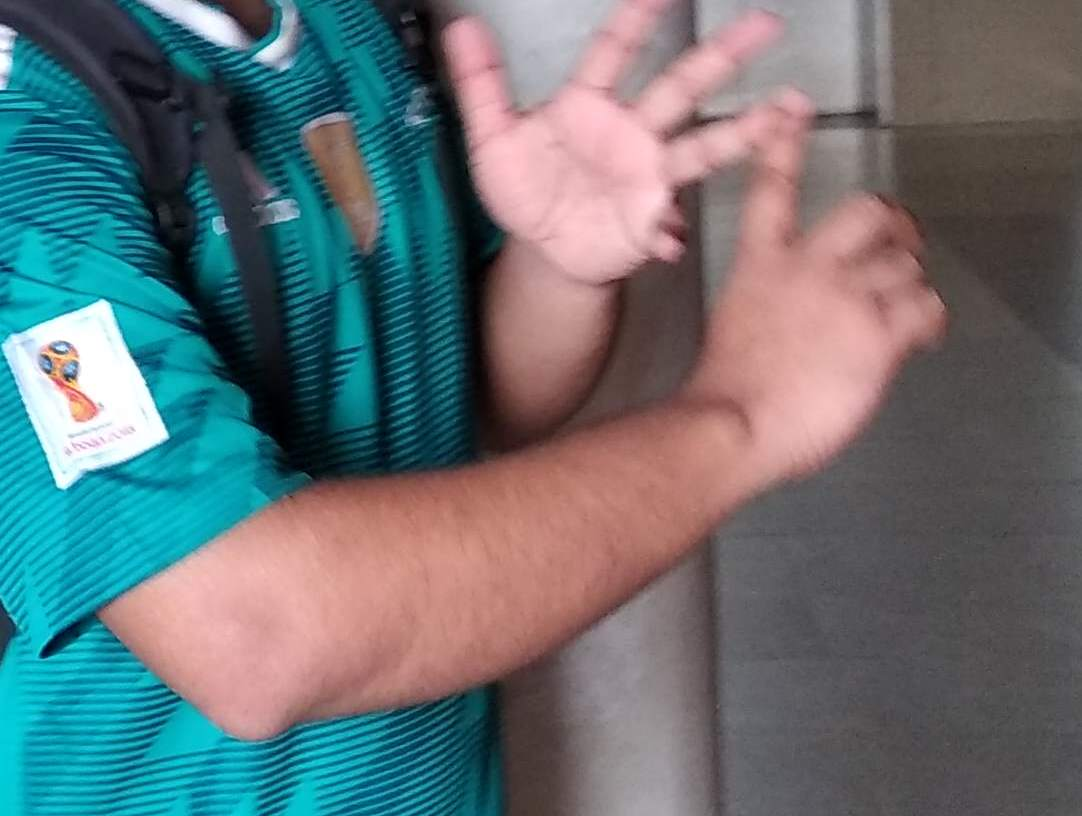e: (523, 1, 882, 280)
